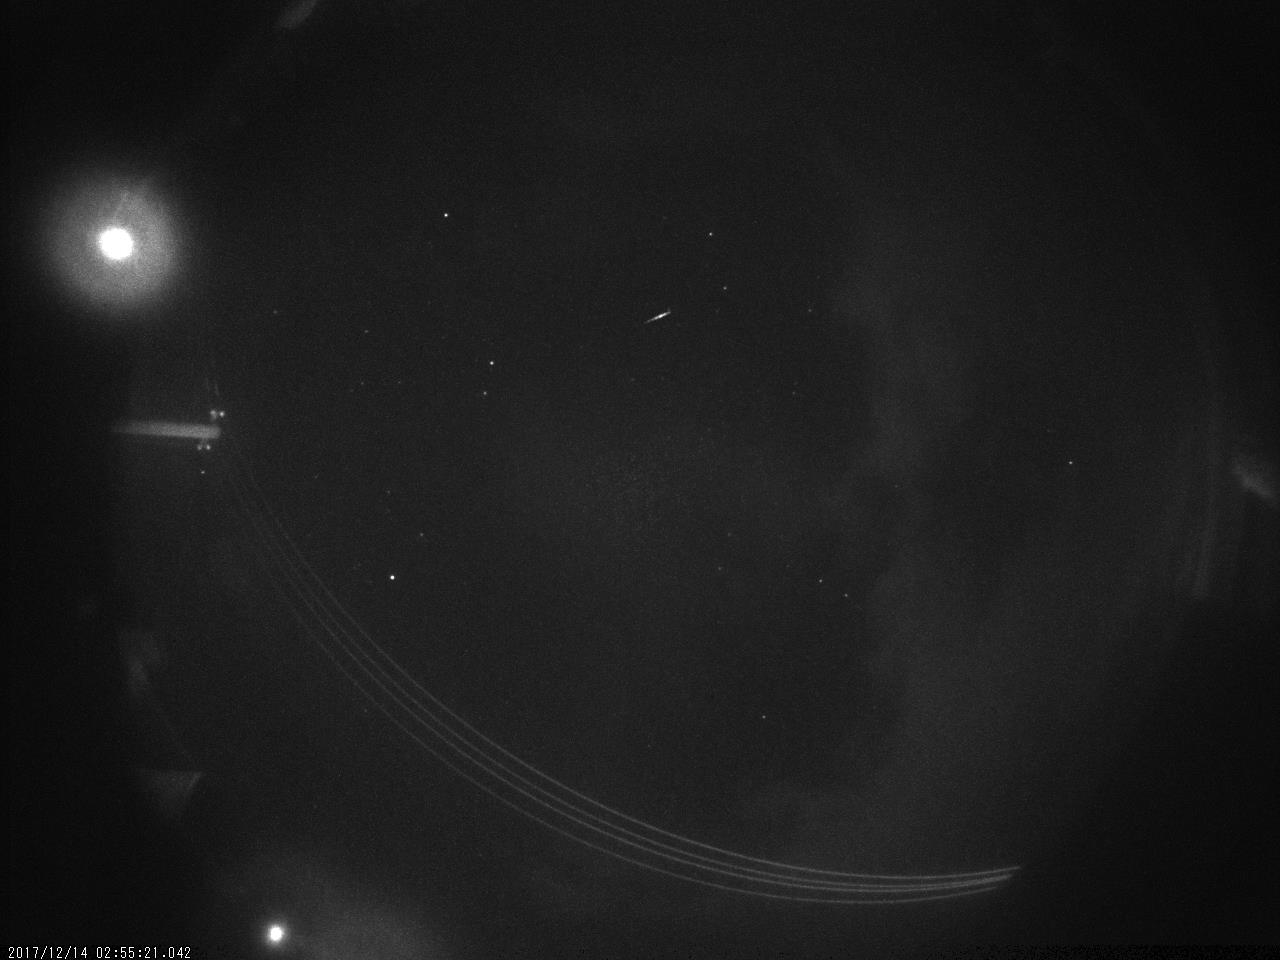meteor: (634, 300, 677, 331)
